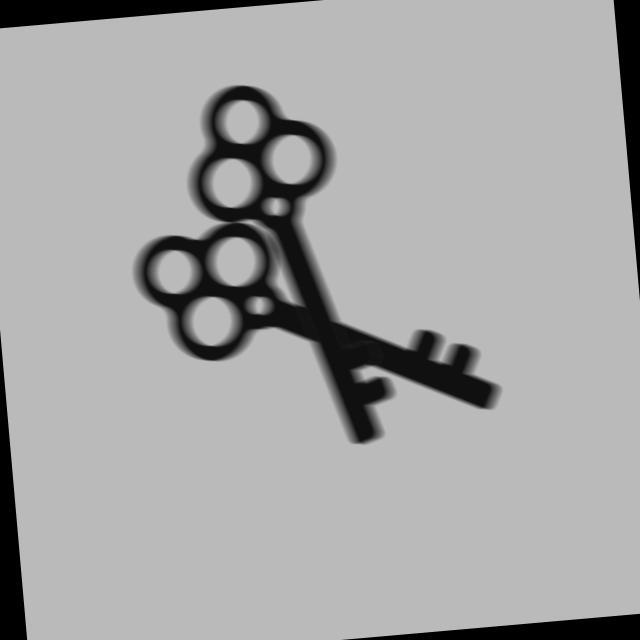key: (176, 70, 424, 466), (118, 206, 527, 426)
